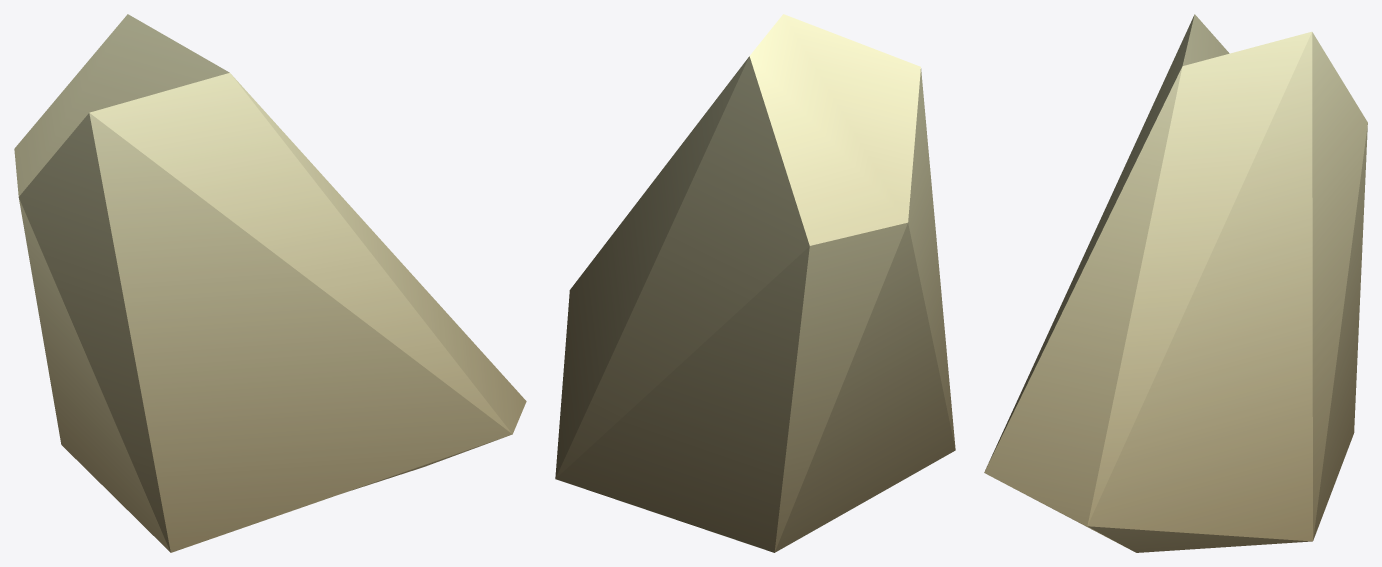
File: BigRock.fbx
3 views of the same model, side by side, from view 1: azimuth 30°, elevation 25°; view 2: azimuth 150°, elevation 25°; view 3: azimuth 270°, elevation 25° (orthographic). The views are drawn at different scales.
Parts seen in each view (by area): view 1: BigRock.001; view 2: BigRock.001; view 3: BigRock.001.
Boxes of the visible parts, x1,y1,x2,y2 form: BigRock.001: (14,14,526,552); BigRock.001: (555,14,955,552); BigRock.001: (984,14,1367,552).
Bounding box in the file's own units: 290 × 294 × 241.
